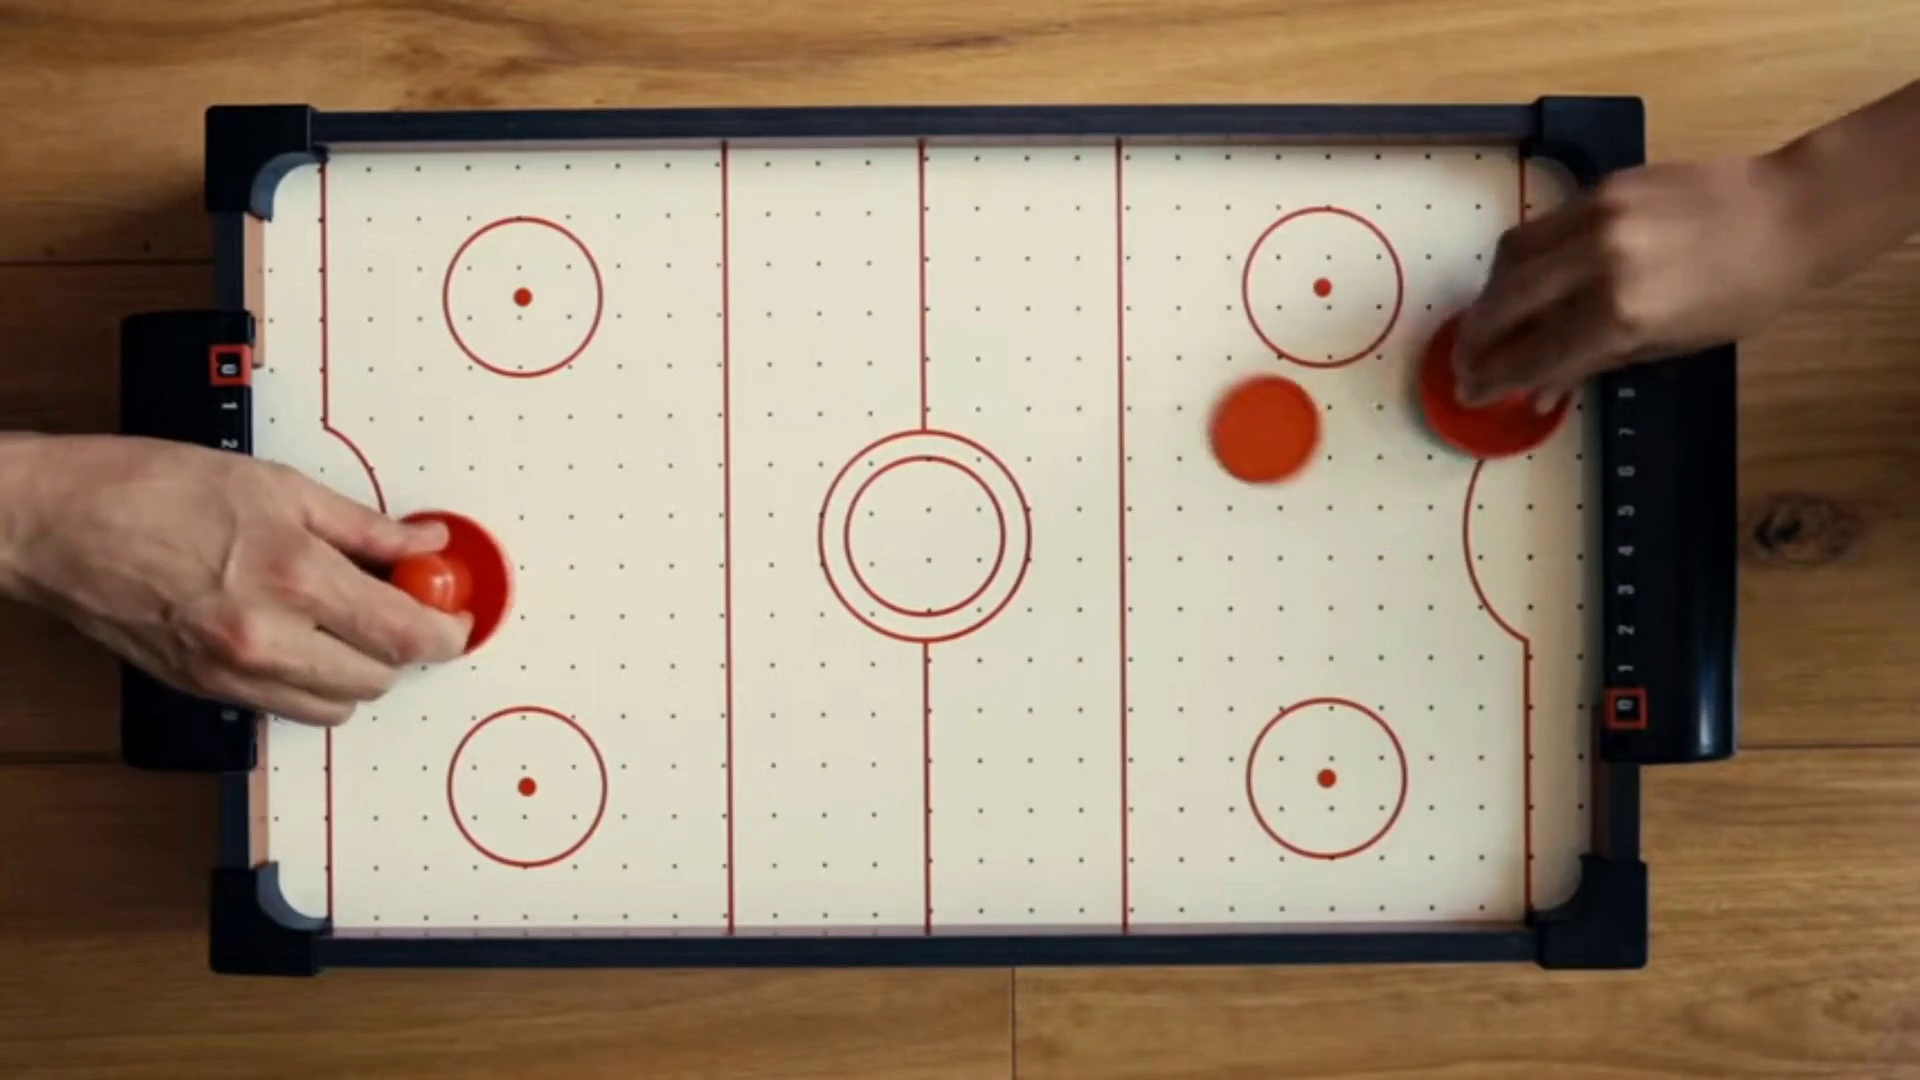player1: (361, 516, 509, 660)
player2: (1418, 310, 1566, 460)
puck: (1207, 373, 1317, 490)
table: (264, 147, 1595, 917)
